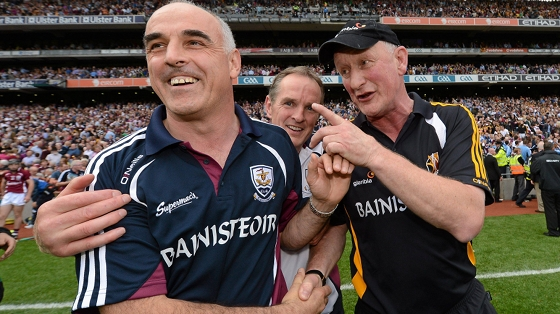player: (81, 6, 293, 309), (307, 17, 506, 305), (257, 55, 338, 161)
